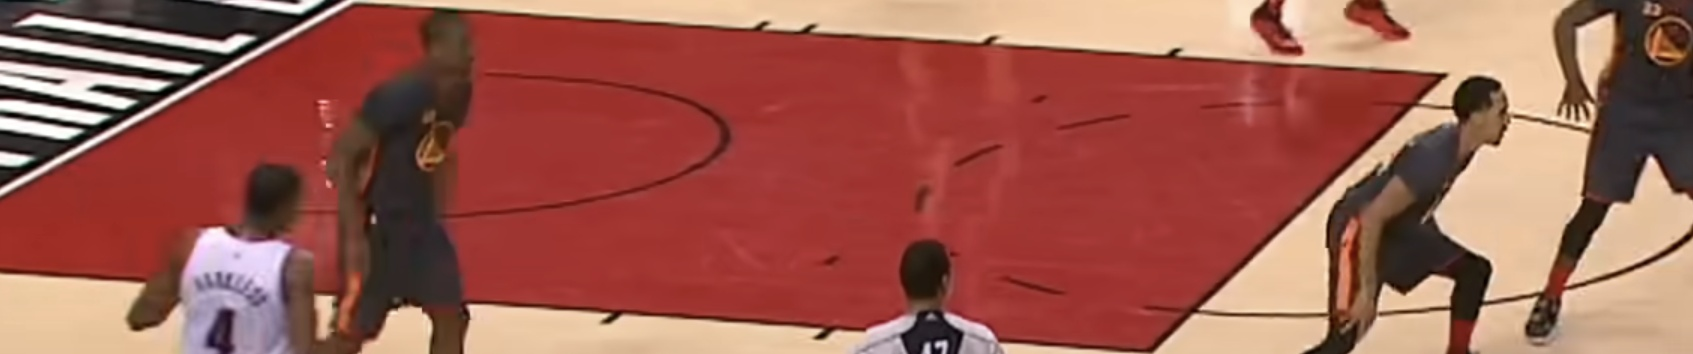endLine: (3, 1, 357, 196)
freeThrow: (1152, 73, 1445, 352)
lane: (4, 272, 1150, 354), (360, 1, 1446, 74)
